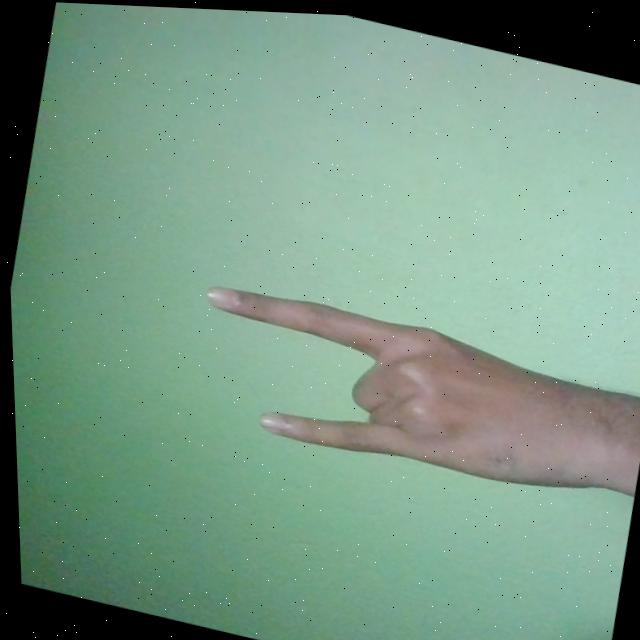Rock On: (181, 272, 640, 513)
